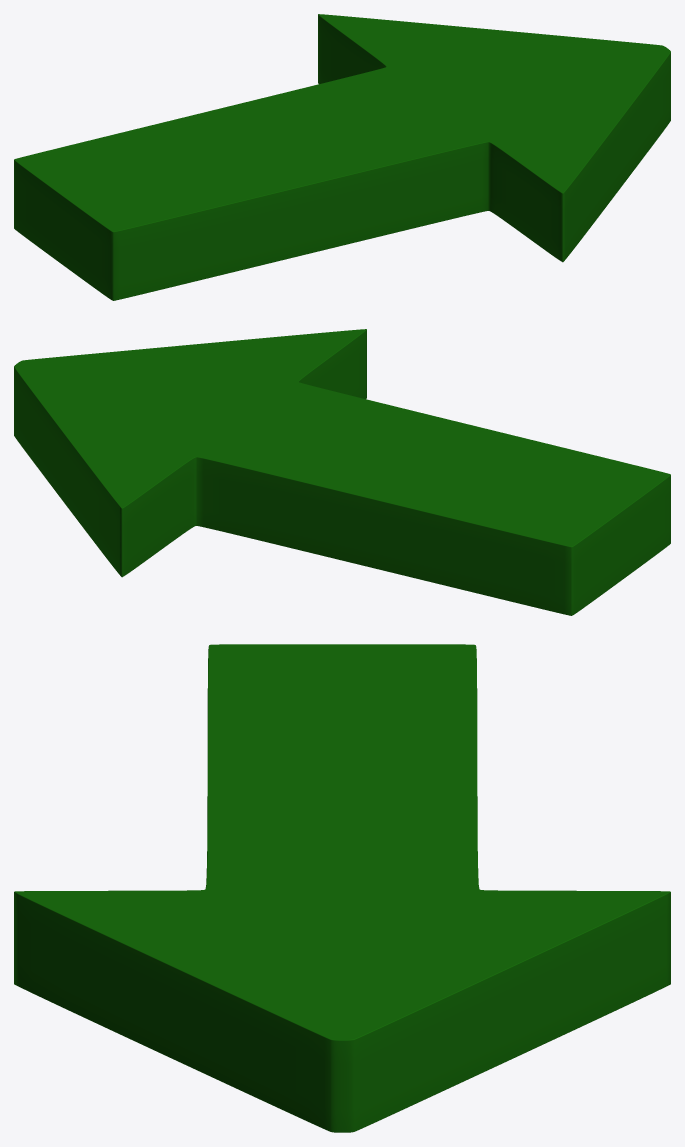
Rendered from arrow.FBX.
3 renders of one model, top to bottom at view 1: azimuth 30°, elevation 25°; view 2: azimuth 150°, elevation 25°; view 3: azimuth 270°, elevation 25°, orthographic. The views are drawn at different scales.
Visible parts, largest first — view 1: Box01; view 2: Box01; view 3: Box01.
Part boxes in pixels (x1,y1,x2,y2): Box01: (14, 14, 670, 300); Box01: (14, 329, 670, 615); Box01: (14, 644, 670, 1132).
Size of the model in its own units: 50.33 by 5.49 by 35.27.
